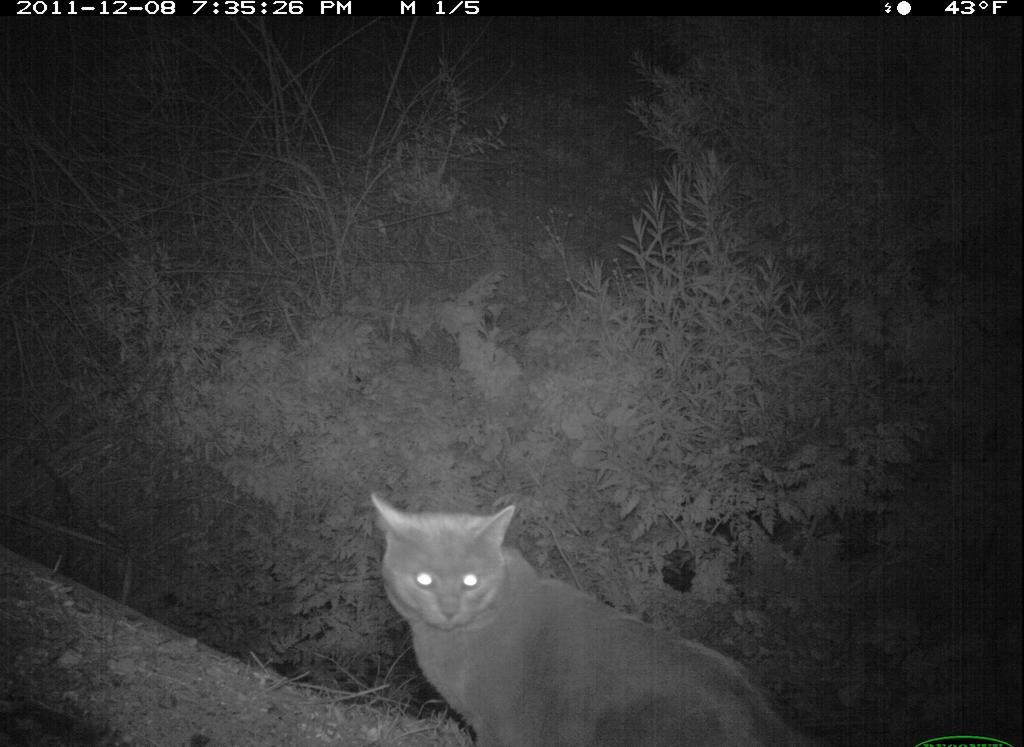cat: (363, 482, 850, 747)
